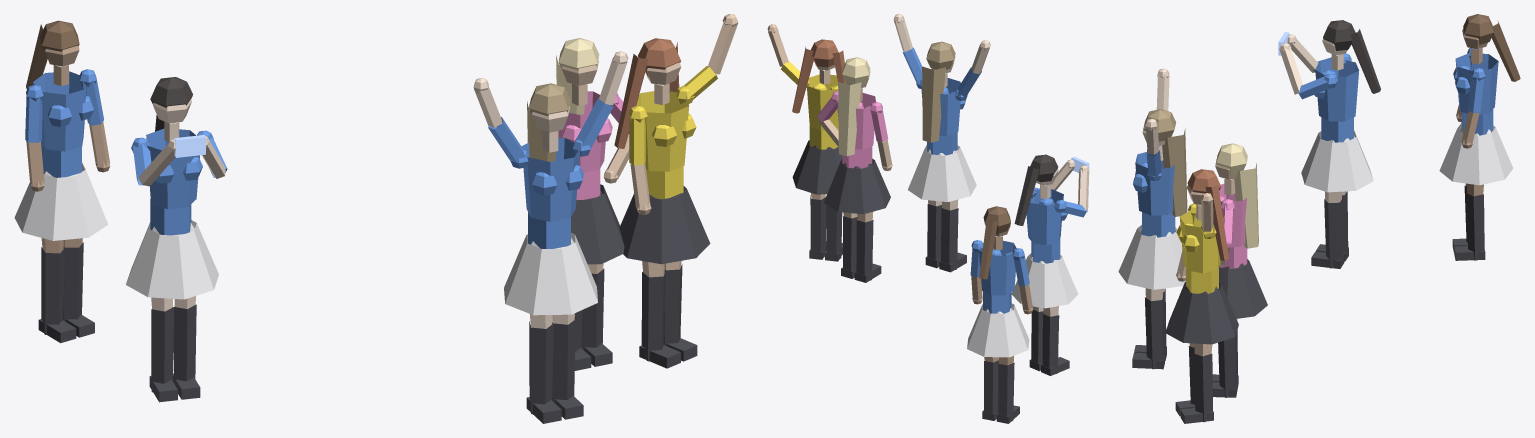
Rendered from crowd_angels_group.glb.
3 views of the same model, side by side, from view 1: azimuth 30°, elevation 25°; view 2: azimuth 150°, elevation 25°; view 3: azimuth 270°, elevation 25° (orthographic). The views are drawn at different scales.
Visible parts, largest first — view 1: crowd_angels_group; view 2: crowd_angels_group; view 3: crowd_angels_group.
Part boxes in pixels (x1,y1,x2,y2): crowd_angels_group: (14, 14, 738, 423); crowd_angels_group: (767, 14, 1089, 423); crowd_angels_group: (1118, 14, 1520, 423).
Size of the model in its own units: 3.01 by 1.82 by 2.47.
